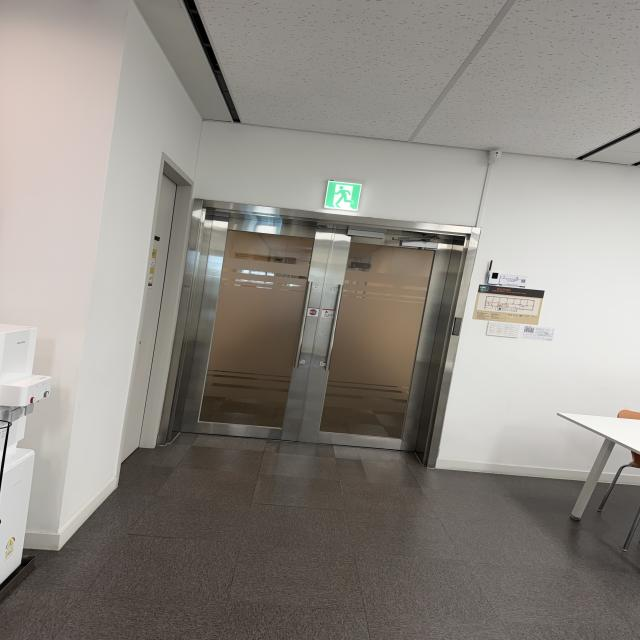rear_door: (178, 211, 467, 457)
